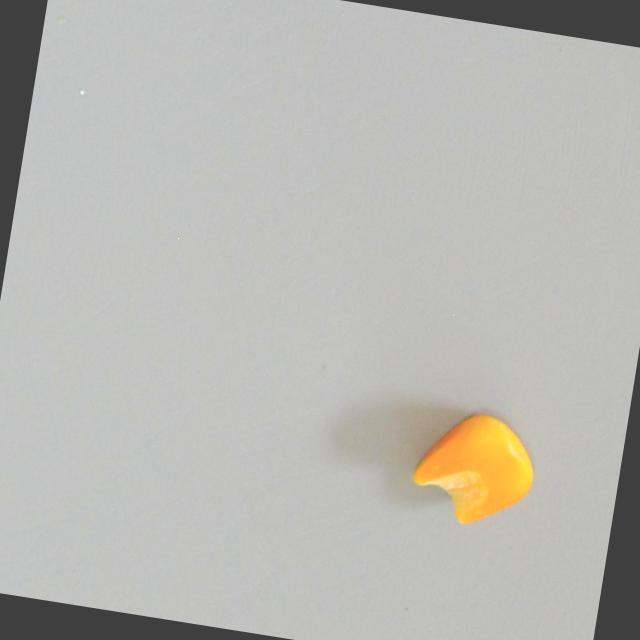no_canjicado: (401, 402, 545, 538)
